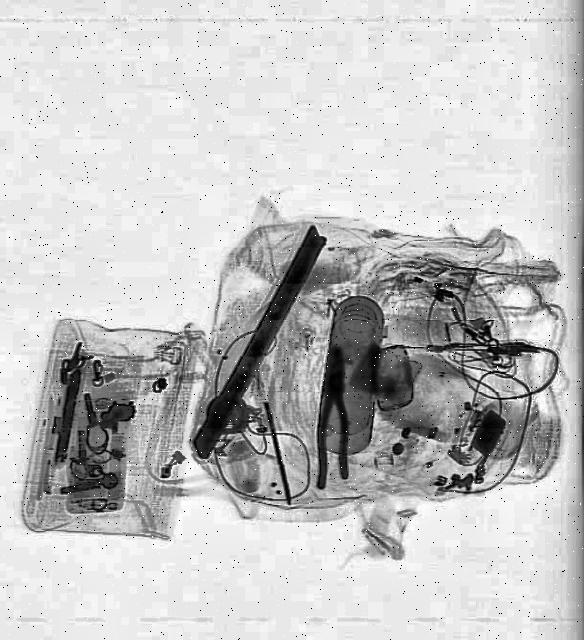Pliers: (316, 346, 354, 489)
